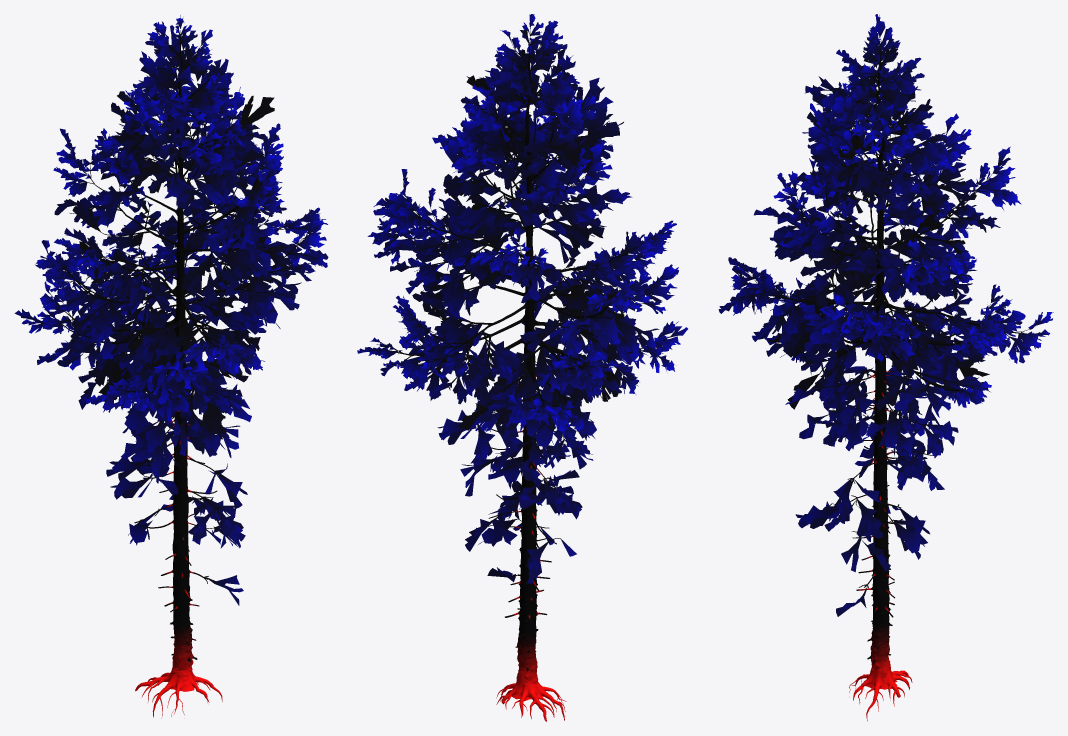
File: SM_SilverFir_01.fbx
3 renders of one model, left to right at view 1: azimuth 30°, elevation 25°; view 2: azimuth 150°, elevation 25°; view 3: azimuth 270°, elevation 25°, orthographic. The views are drawn at different scales.
Visible parts, largest first — view 1: SM_SilverFir_01_LOD0; view 2: SM_SilverFir_01_LOD0; view 3: SM_SilverFir_01_LOD0.
Boxes of the visible parts, left/top/right/bottom form: SM_SilverFir_01_LOD0: left=14, top=15, right=328, bottom=718; SM_SilverFir_01_LOD0: left=357, top=14, right=687, bottom=721; SM_SilverFir_01_LOD0: left=718, top=14, right=1053, bottom=721.
Size of the model in its own units: 2107 by 2268 by 5072.
